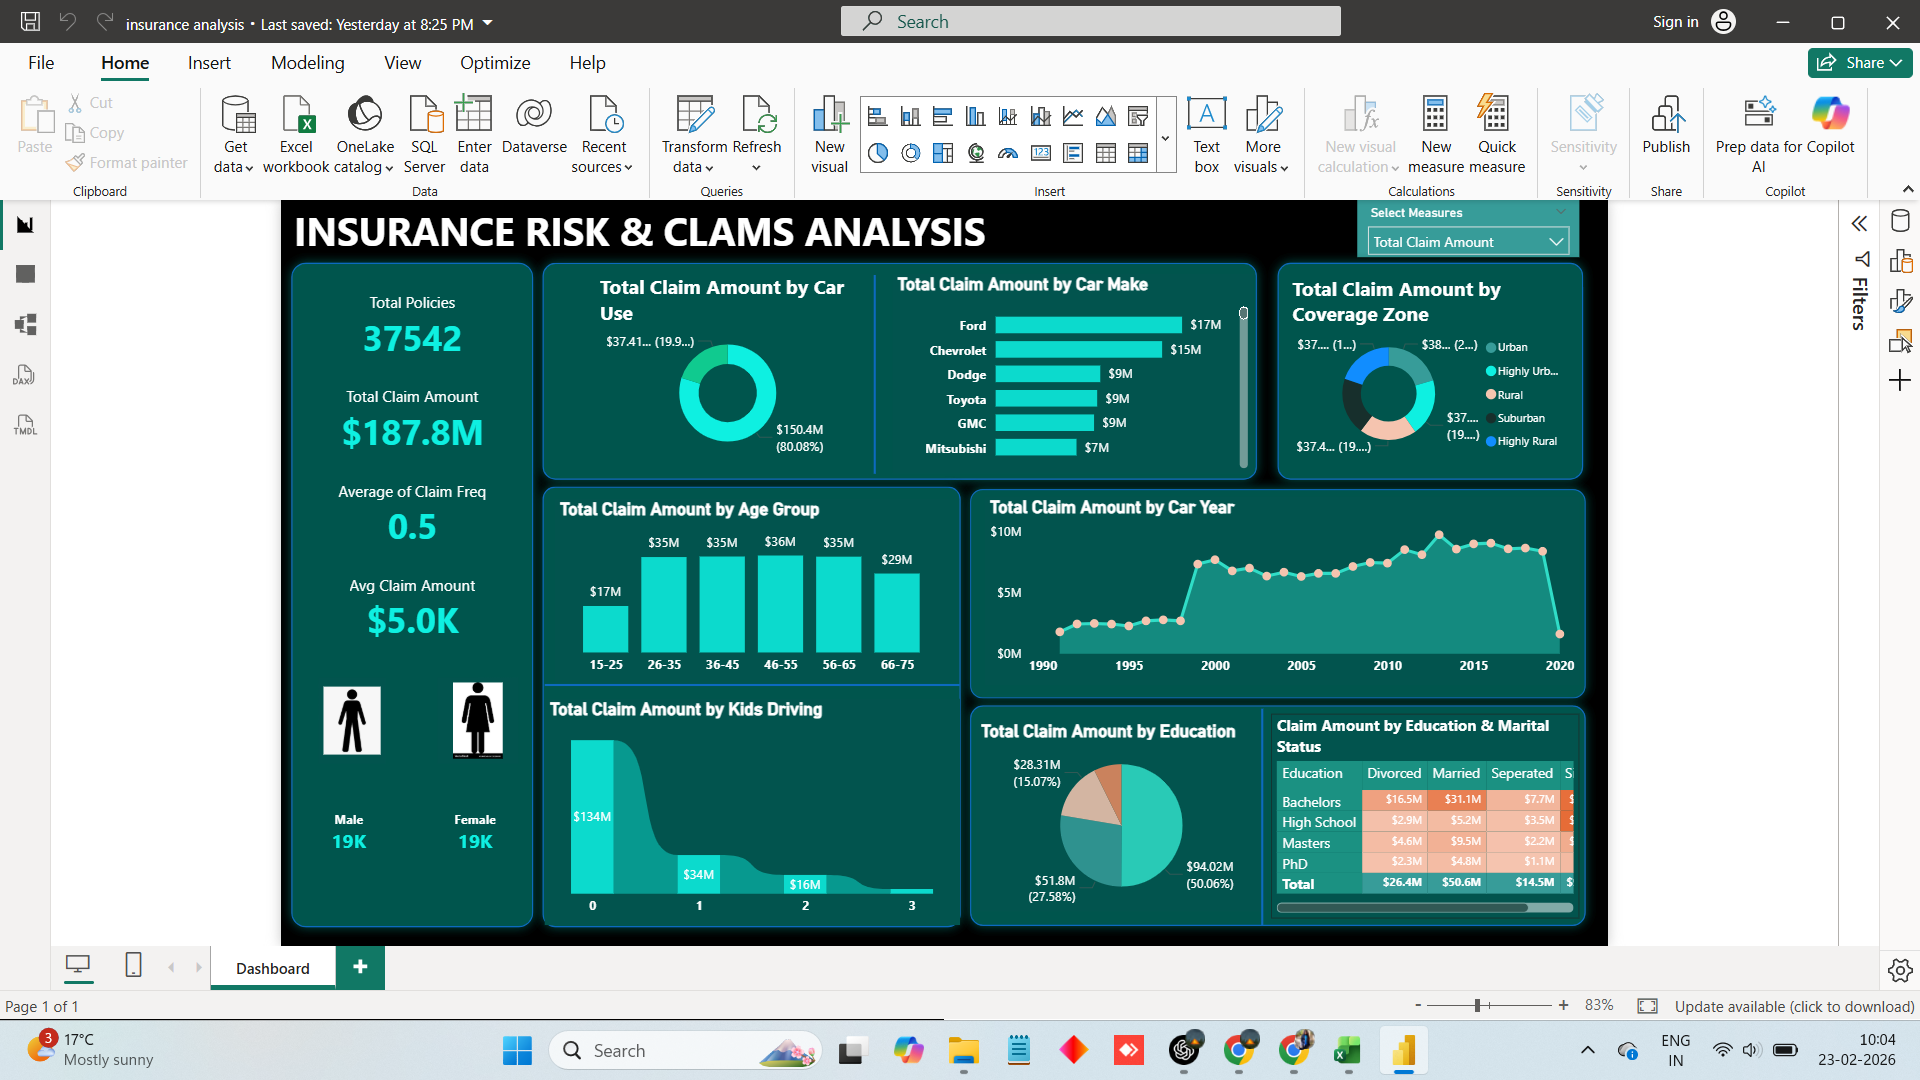

The dashboard page shown, as its layout file describes it:
{"tool":"powerbi","page":{"name":"Dashboard","canvas":[1280,720],"ordinal":0},"visuals":[{"type":"textbox","box":[0,0,692.5,60.6],"z":0},{"type":"shape","box":[0,50.7,253.4,661.1],"z":1},{"type":"cardVisual","fields":{"Data":["insurance_data_car.Total Policies","insurance_data_car.Total Claim Amount","Avg(insurance_data_car.Claim Freq)","insurance_data_car.Avg Claim Amount"]},"box":[31.4,71.2,191.8,369.2],"z":2},{"type":"cardVisual","fields":{"Data":["insurance_data_car.Male Count","insurance_data_car.Female Count"]},"box":[0,561,253.4,94.1],"z":3},{"type":"image","box":[36.2,460.9,65.1,83.2],"z":4},{"type":"image","box":[150.8,460.9,78.4,83.2],"z":5},{"type":"slicer","fields":{"Values":["Select Measures.Select Measures"]},"box":[1038.7,0,214.7,55.5],"z":6},{"type":"shape","box":[242.5,50.7,709.4,229.2],"z":7},{"type":"donutChart","fields":{"Category":["insurance_data_car.Car Use"],"Y":["insurance_data_car.Total Policies"]},"box":[302.9,71.4,257,181],"z":8},{"type":"clusteredBarChart","fields":{"Category":["insurance_data_car.Car Make"],"Y":["insurance_data_car.Total Policies"]},"box":[590,71.4,348.6,192.9],"z":9},{"type":"shape","box":[951.9,50.7,314.9,229.2],"z":10},{"type":"donutChart","fields":{"Category":["insurance_data_car.Coverage Zone"],"Y":["insurance_data_car.Total Policies"]},"box":[971.2,72.4,276.3,179.8],"z":11},{"type":"shape","box":[242.5,266.6,423.5,445.2],"z":12},{"type":"clusteredColumnChart","fields":{"Category":["insurance_data_car.Age Group"],"Y":["insurance_data_car.Total Policies"]},"box":[264.2,288.3,381.2,178.6],"z":13},{"type":"ribbonChart","fields":{"Category":["insurance_data_car.Kids Driving"],"Y":["insurance_data_car.Total Policies"]},"box":[254.6,481.4,400.5,218.4],"z":14},{"type":"shape","box":[655.1,269,614.1,222],"z":15},{"type":"areaChart","fields":{"Category":["insurance_data_car.Car Year"],"Y":["insurance_data_car.Total Policies"]},"box":[679.2,285.9,574.3,182.2],"z":16},{"type":"shape","box":[655.1,477.8,614.1,232.8],"z":17},{"type":"pieChart","fields":{"Category":["insurance_data_car.Education"],"Y":["insurance_data_car.Total Policies"]},"box":[670.8,501.9,281.1,184.6],"z":18},{"type":"pivotTable","title":"Claim Amount by Education & Marital Status","fields":{"Columns":["insurance_data_car.Marital Status"],"Rows":["insurance_data_car.Education"],"Values":["insurance_data_car.Total Claim Amount"]},"box":[955.5,495.8,298,197.9],"z":19},{"type":"shape","box":[254.6,451.2,400.5,33.8],"z":20},{"type":"shape","box":[548.9,72.4,48.3,191.8],"z":21},{"type":"shape","box":[922.9,491,48.3,208.7],"z":22}]}

Visuals, with their boxes on the page's 1280x720 design canvas (x1, y1, x2, y2). These are canvas units, not pixel positions in the 1920x1080 screenshot, which may show the page scaled, cropped or inside an application window:
textbox: 0,0,692,61
shape: 0,51,253,712
cardVisual - insurance_data_car.Total Policies x insurance_data_car.Total Claim Amount: 31,71,223,440
cardVisual - insurance_data_car.Male Count x insurance_data_car.Female Count: 0,561,253,655
image: 36,461,101,544
image: 151,461,229,544
slicer - Select Measures.Select Measures: 1039,0,1253,56
shape: 242,51,952,280
donutChart - insurance_data_car.Car Use x insurance_data_car.Total Policies: 303,71,560,252
clusteredBarChart - insurance_data_car.Car Make x insurance_data_car.Total Policies: 590,71,939,264
shape: 952,51,1267,280
donutChart - insurance_data_car.Coverage Zone x insurance_data_car.Total Policies: 971,72,1248,252
shape: 242,267,666,712
clusteredColumnChart - insurance_data_car.Age Group x insurance_data_car.Total Policies: 264,288,645,467
ribbonChart - insurance_data_car.Kids Driving x insurance_data_car.Total Policies: 255,481,655,700
shape: 655,269,1269,491
areaChart - insurance_data_car.Car Year x insurance_data_car.Total Policies: 679,286,1254,468
shape: 655,478,1269,711
pieChart - insurance_data_car.Education x insurance_data_car.Total Policies: 671,502,952,686
"Claim Amount by Education & Marital Status" pivotTable: 956,496,1254,694
shape: 255,451,655,485
shape: 549,72,597,264
shape: 923,491,971,700
